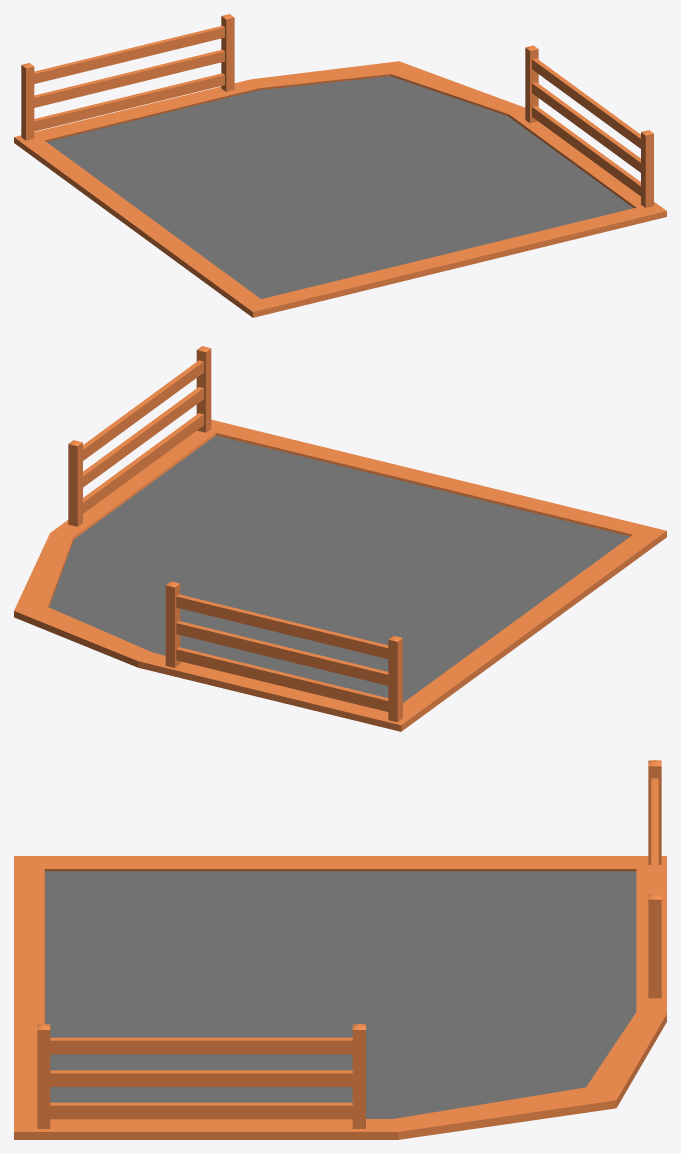
File: SpotLarge.fbx
The picture shows the model from 3 angles, top to bottom: view 1: azimuth 30°, elevation 25°; view 2: azimuth 150°, elevation 25°; view 3: azimuth 270°, elevation 25°; orthographic projection. The views are drawn at different scales.
Visible parts, largest first — view 1: SpotLarge; view 2: SpotLarge; view 3: SpotLarge.
Boxes of the visible parts, x1,y1,x2,y2 form: SpotLarge: (14, 14, 666, 317); SpotLarge: (14, 346, 666, 731); SpotLarge: (14, 760, 666, 1139).
Bounding box in the file's own units: 4.3 × 0.8014 × 4.3.
